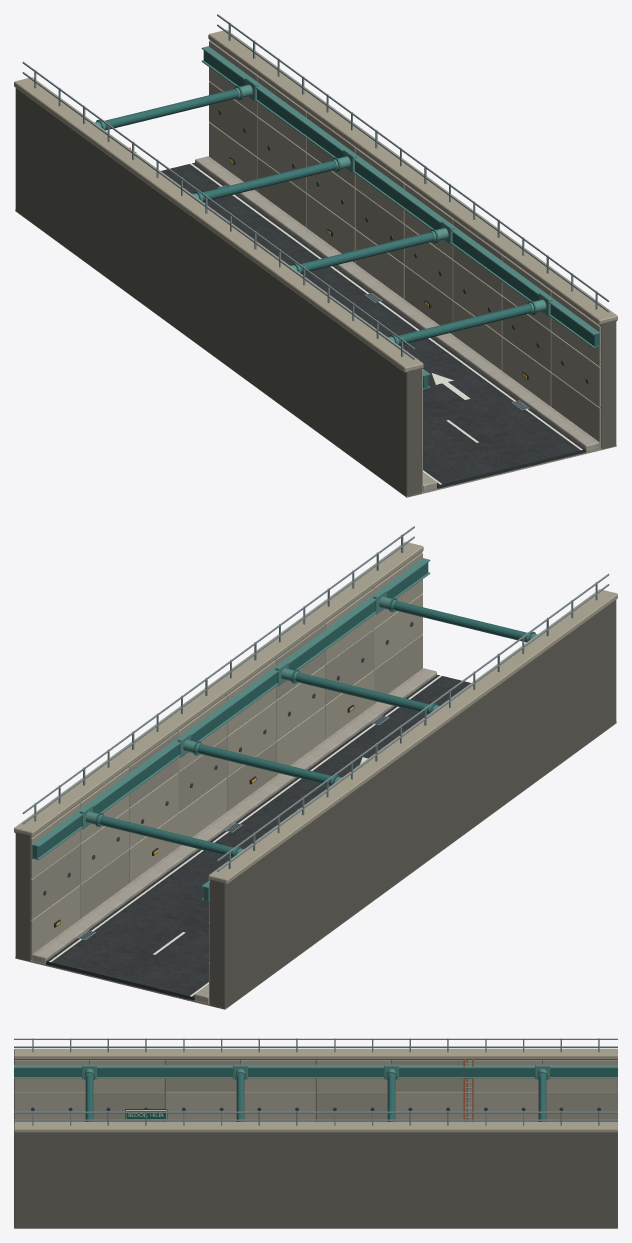
The picture shows the model from 3 angles, top to bottom: view 1: azimuth 30°, elevation 25°; view 2: azimuth 150°, elevation 25°; view 3: azimuth 270°, elevation 25°; orthographic projection. The views are drawn at different scales.
Parts seen in each view (by area): view 1: Diaphragm wall core, Formed wall panels, Bituminous surface, Wall coping, Maintenance kerb, Tubular cross-lot struts, Top safety rail, Wale flanges, Continuous wale, Parapet posts, Edge lines, End connection sleeves (+2 smaller); view 2: Diaphragm wall core, Formed wall panels, Bituminous surface, Wall coping, Maintenance kerb, Tubular cross-lot struts, Top safety rail, Wale flanges, Continuous wale, Parapet posts, Edge lines, End connection sleeves (+2 smaller); view 3: Diaphragm wall core, Formed wall panels, Wall coping, Top safety rail, Continuous wale, Wale flanges, Tubular cross-lot struts, Parapet posts, Bracing gussets, Cutting identifier.
Boxes of the visible parts, x1=… form: Diaphragm wall core: x1=15, y1=40, x2=616, y2=496; Formed wall panels: x1=209, y1=40, x2=600, y2=491; Bituminous surface: x1=161, y1=162, x2=585, y2=488; Wall coping: x1=14, y1=29, x2=617, y2=372; Maintenance kerb: x1=195, y1=156, x2=599, y2=491; Tubular cross-lot struts: x1=104, y1=89, x2=531, y2=345; Top safety rail: x1=22, y1=14, x2=609, y2=359; Wale flanges: x1=201, y1=46, x2=600, y2=389; Continuous wale: x1=203, y1=50, x2=599, y2=388; Parapet posts: x1=34, y1=22, x2=597, y2=356; Edge lines: x1=190, y1=163, x2=582, y2=484; End connection sleeves: x1=94, y1=84, x2=546, y2=344; Diaphragm wall core: x1=15, y1=552, x2=616, y2=1008; Formed wall panels: x1=31, y1=552, x2=422, y2=1003; Bituminous surface: x1=46, y1=674, x2=470, y2=1000; Wall coping: x1=14, y1=541, x2=617, y2=884; Maintenance kerb: x1=32, y1=668, x2=436, y2=1003; Tubular cross-lot struts: x1=100, y1=601, x2=527, y2=857; Top safety rail: x1=22, y1=526, x2=609, y2=871; Wale flanges: x1=31, y1=558, x2=430, y2=901; Continuous wale: x1=32, y1=562, x2=428, y2=900; Parapet posts: x1=34, y1=534, x2=597, y2=868; Edge lines: x1=49, y1=675, x2=441, y2=996; End connection sleeves: x1=85, y1=596, x2=537, y2=856; Diaphragm wall core: x1=14, y1=1059, x2=617, y2=1228; Formed wall panels: x1=14, y1=1060, x2=617, y2=1121; Wall coping: x1=14, y1=1048, x2=617, y2=1132; Top safety rail: x1=14, y1=1038, x2=617, y2=1120; Continuous wale: x1=14, y1=1068, x2=617, y2=1076; Wale flanges: x1=14, y1=1065, x2=617, y2=1078; Tubular cross-lot struts: x1=85, y1=1074, x2=546, y2=1121; Parapet posts: x1=32, y1=1038, x2=599, y2=1125; Bracing gussets: x1=82, y1=1064, x2=549, y2=1079; Cutting identifier: x1=125, y1=1109, x2=167, y2=1119.
Size of the model in its own units: 10.08 by 6.68 by 32.
17 materials, 2 textured.
